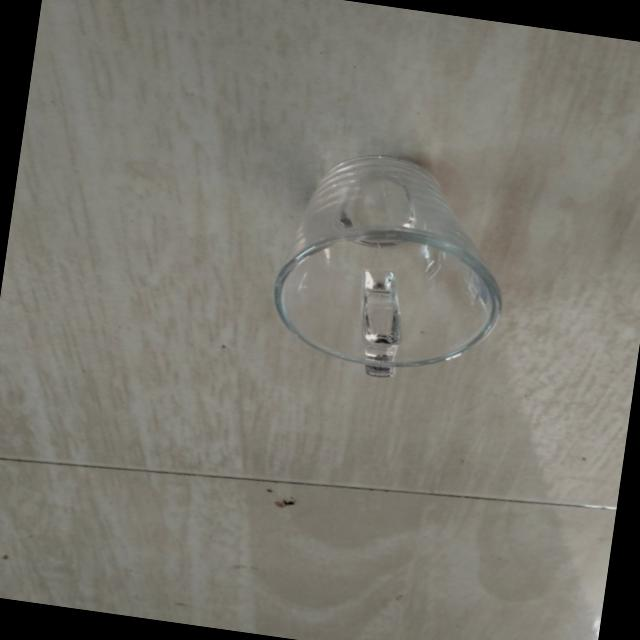glass-VX4N: (260, 138, 520, 394)
